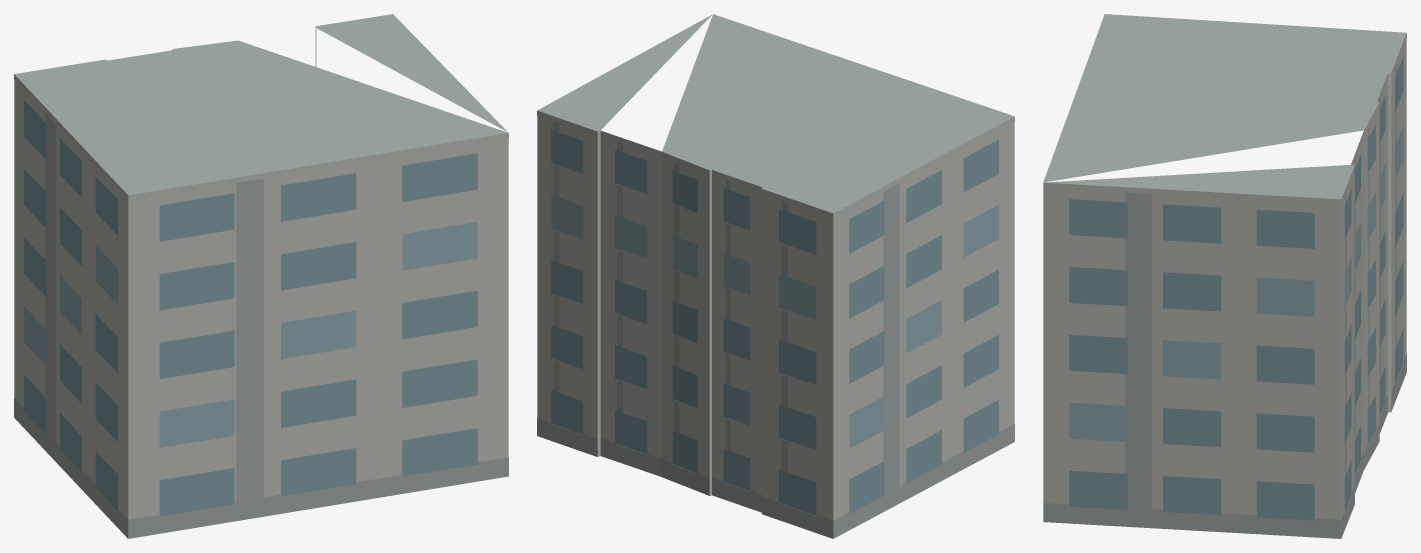
The model's file is survey-upis-32781341.glb.
3 views of the same model, side by side, from view 1: azimuth 30°, elevation 25°; view 2: azimuth 150°, elevation 25°; view 3: azimuth 270°, elevation 25° (orthographic). The views are drawn at different scales.
Visible parts, largest first — view 1: survey-upis-32781341.tmp; view 2: survey-upis-32781341.tmp; view 3: survey-upis-32781341.tmp.
Part boxes in pixels (left/top/right/bottom): survey-upis-32781341.tmp: left=14, top=14, right=508, bottom=538; survey-upis-32781341.tmp: left=537, top=14, right=1014, bottom=538; survey-upis-32781341.tmp: left=1043, top=14, right=1406, bottom=538.
Size of the model in its own units: 17.87 by 15.25 by 14.81.
